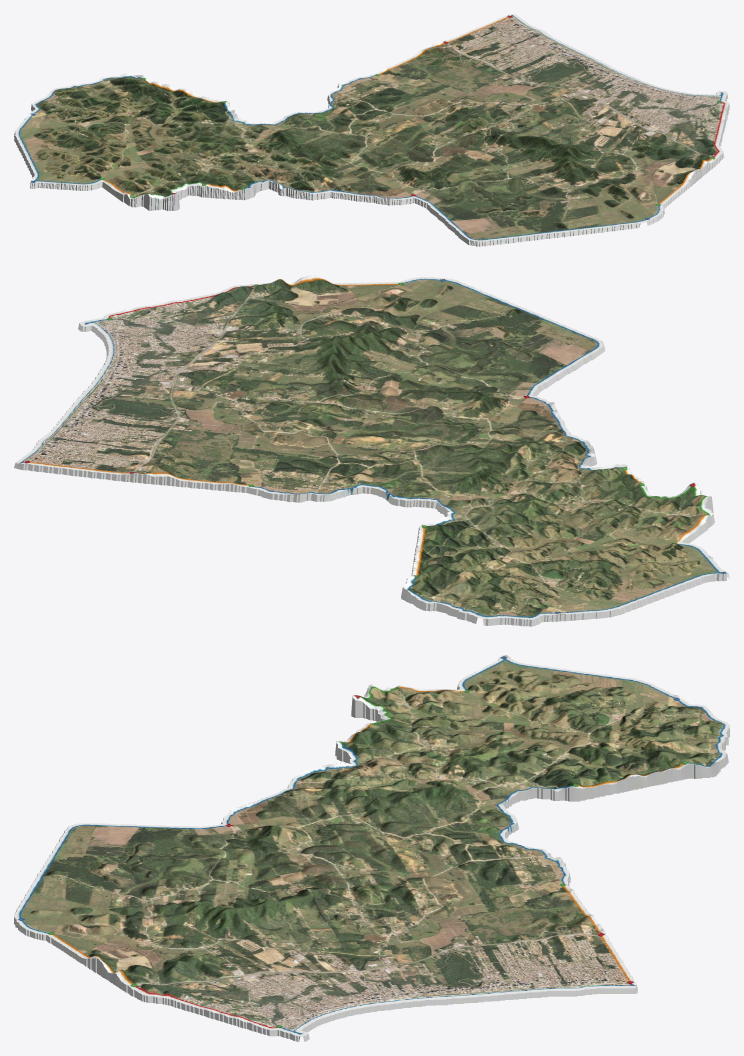
3 renders of one model, top to bottom at view 1: azimuth 30°, elevation 25°; view 2: azimuth 150°, elevation 25°; view 3: azimuth 270°, elevation 25°, orthographic. The views are drawn at different scales.
Size of the model in its own units: 1 by 0.025 by 0.7955.
Materials: 1 (1 with a texture image).
